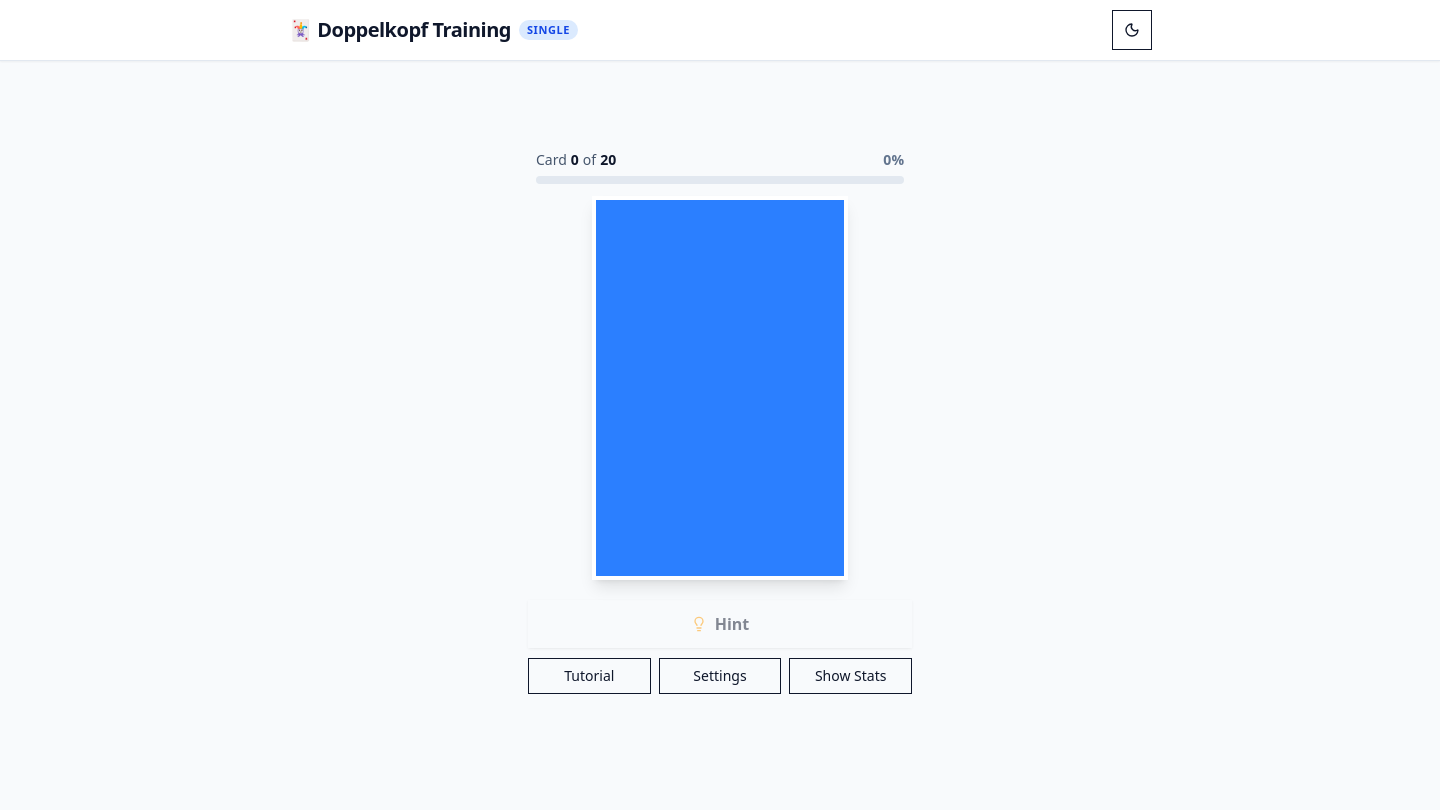
Test case: DoppelkopfGame › shows the running total after each card when enabled in Single Game
The image size is (1440, 810).
Click the button with test id "game-card": (720,388) [592, 196, 848, 580]
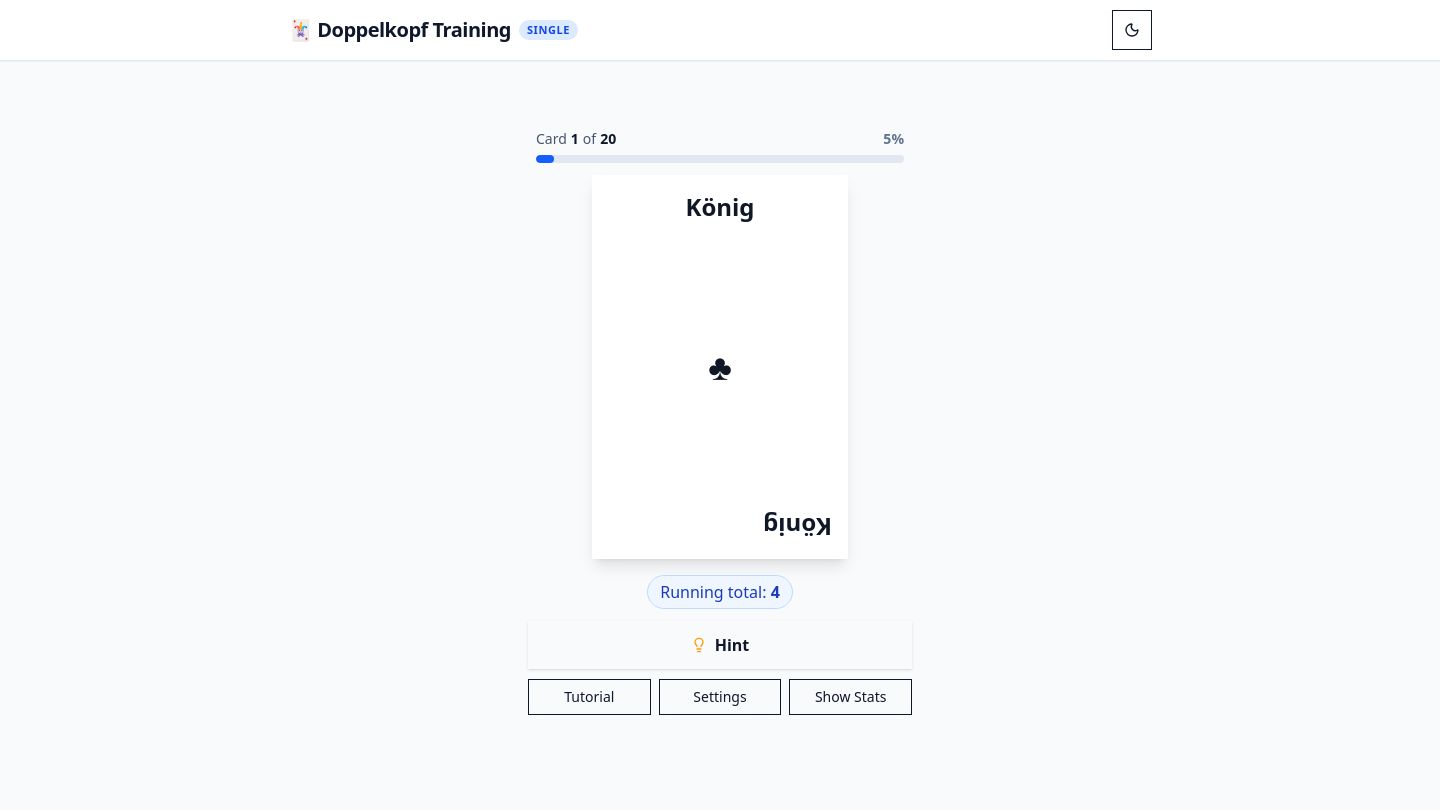
Expected: the message shows "Running total:", [660, 580, 766, 602]
